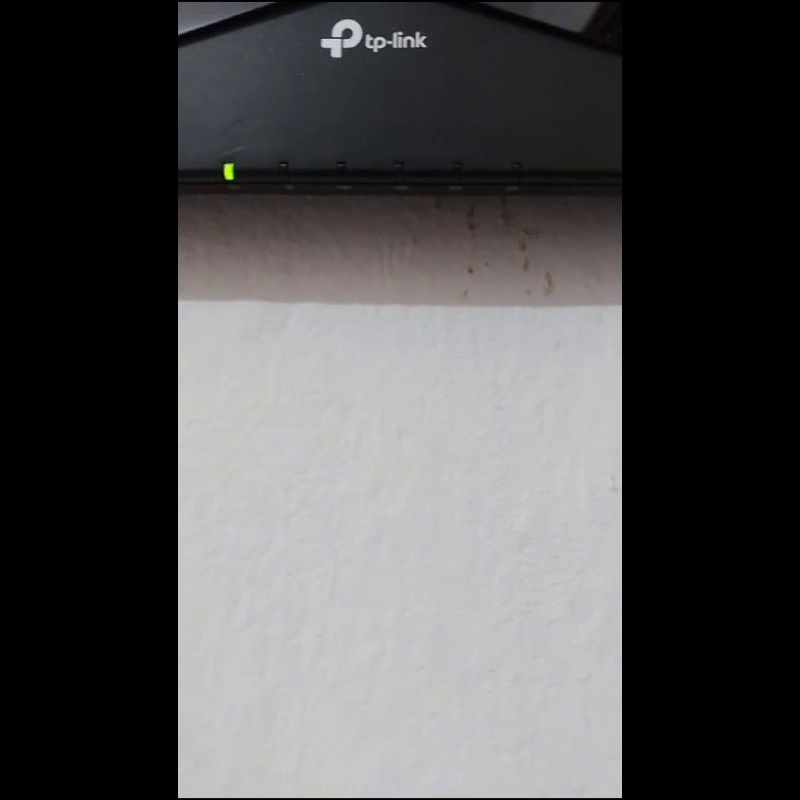off: (394, 158, 405, 180), (451, 160, 462, 180), (510, 161, 520, 182), (336, 158, 346, 179), (277, 160, 288, 179)
on_green: (223, 162, 235, 180)
